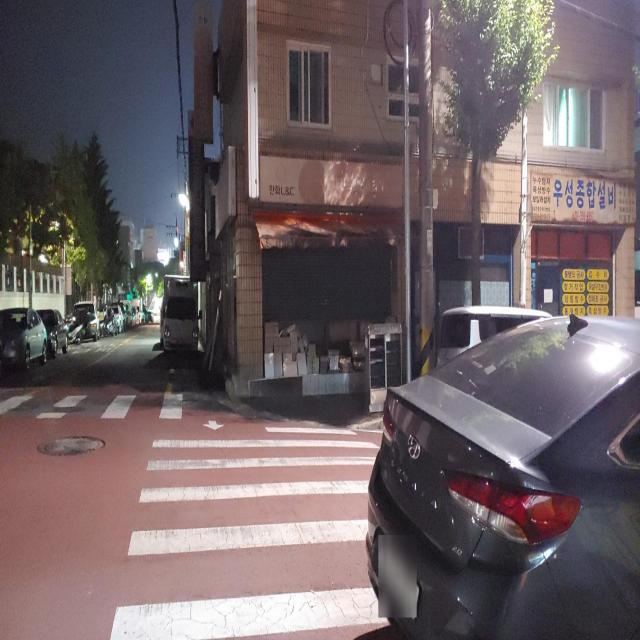횡단보도: (107, 416, 391, 639), (0, 388, 195, 422)
